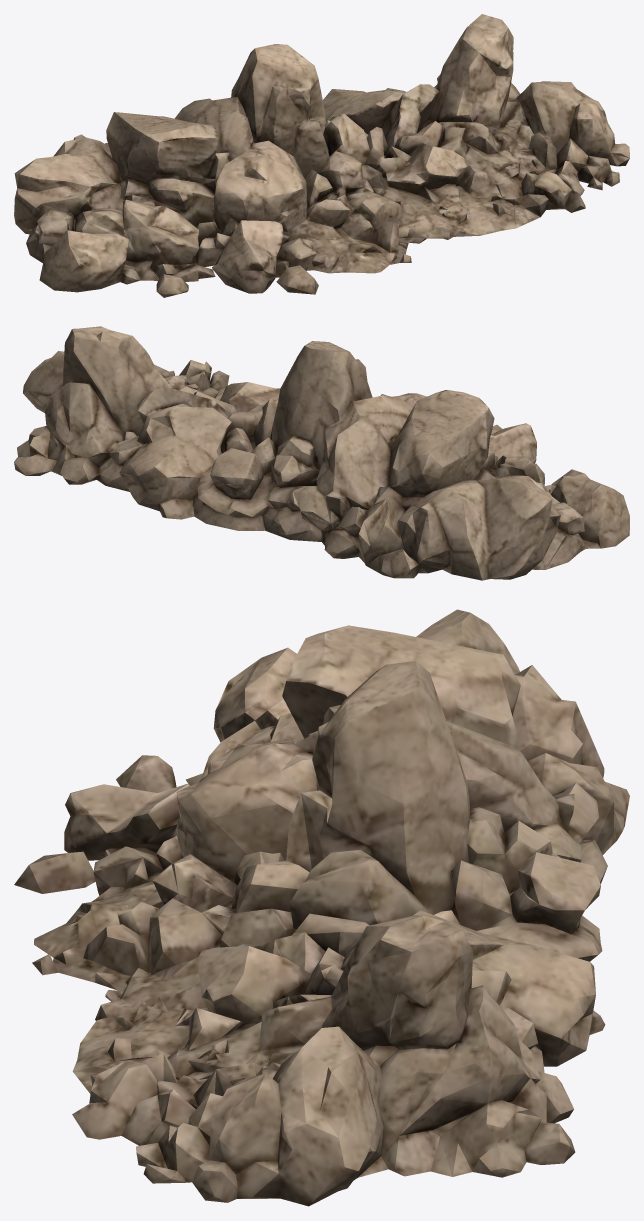
Rendered from zone.blocked.glb.
The picture shows the model from 3 angles, top to bottom: view 1: azimuth 30°, elevation 25°; view 2: azimuth 150°, elevation 25°; view 3: azimuth 270°, elevation 25°; orthographic projection. The views are drawn at different scales.
Parts seen in each view (by area): view 1: body; view 2: body; view 3: body.
Part boxes in pixels (left/top/right/bottom): body: left=14, top=14, right=629, bottom=297; body: left=14, top=326, right=629, bottom=580; body: left=14, top=609, right=629, bottom=1206.
Size of the model in its own units: 0.9987 by 0.2558 by 0.527.
1 material, 1 textured.
